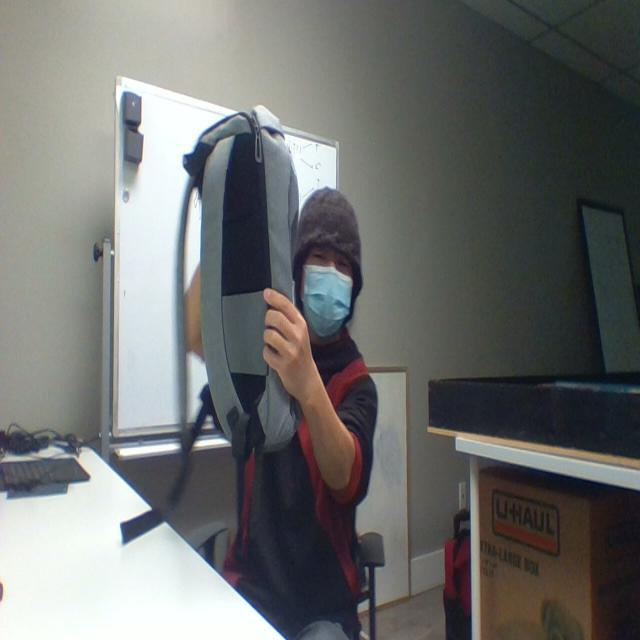Backpacks: (196, 110, 302, 439)
